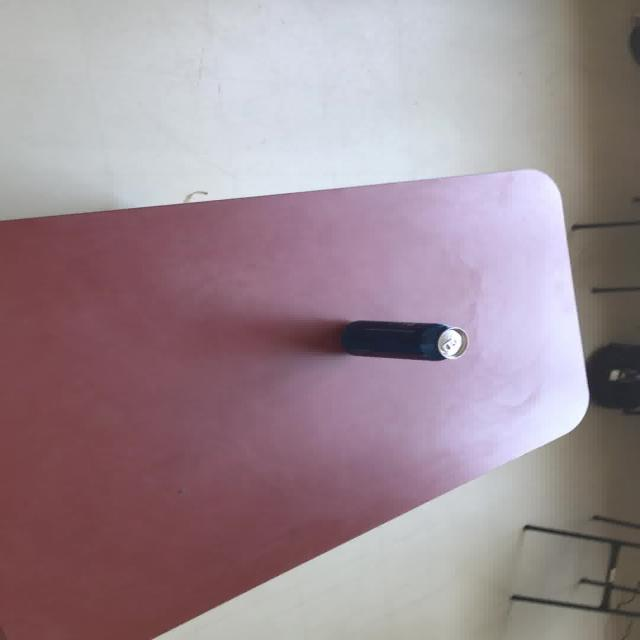tonic: (338, 319, 468, 361)
